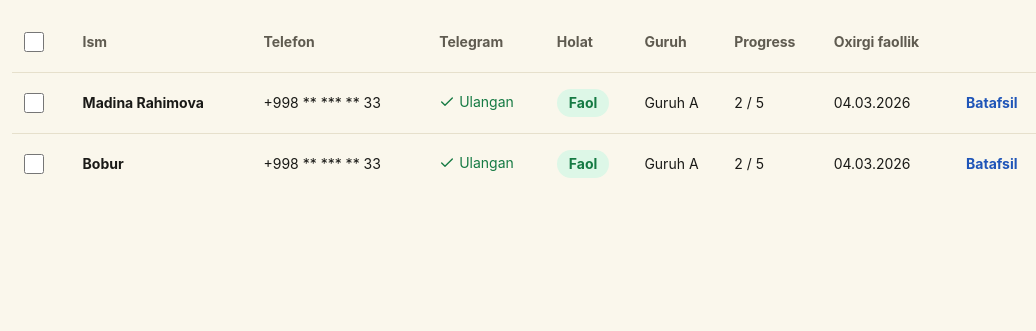
Scenario: StudentTable › bulk move: select rows, choose a group, submit the ids
Expected: the text "Tanlangan" is not shown
Click the checkbox named "Madina Rahimova tanlash" at point(34, 103), box [24,93,44,113]
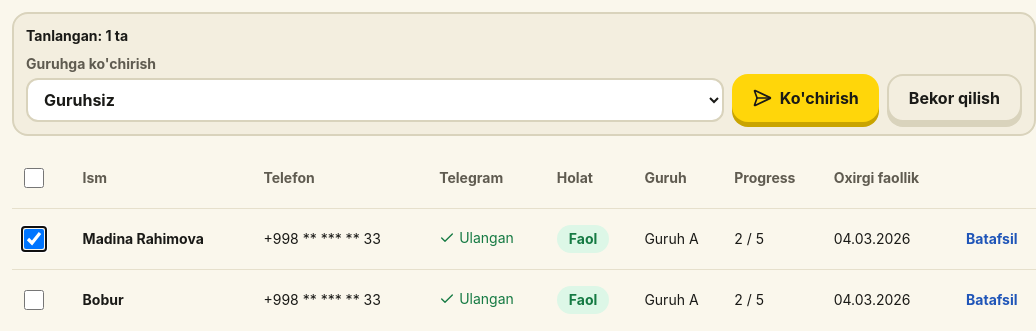
Click the checkbox named "Bobur tanlash" at point(34, 300), box [24,290,44,310]
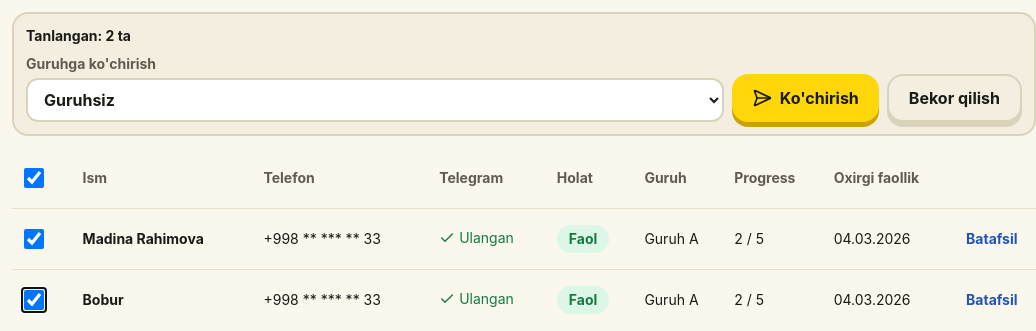
Now the text "Tanlangan: 2 ta" is shown, box [26,27,131,44]
Select "Guruh B" in the dropdown labelled "Guruhga ko'chirish" at point(375, 100), box [26,78,724,122]
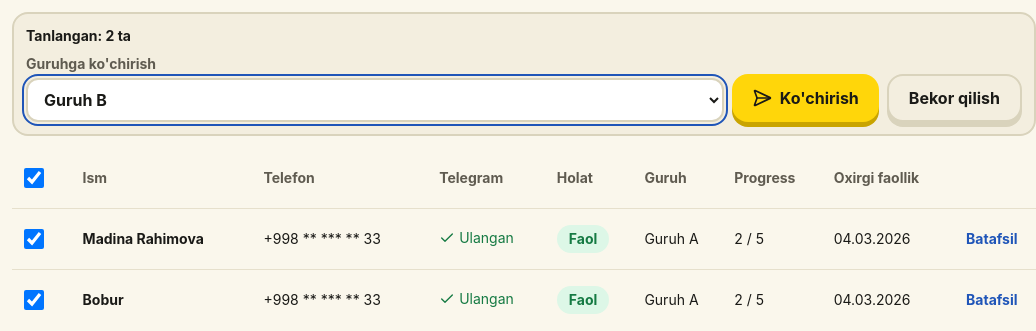
Click the button "Ko'chirish" at point(805, 98), box [732,74,879,122]
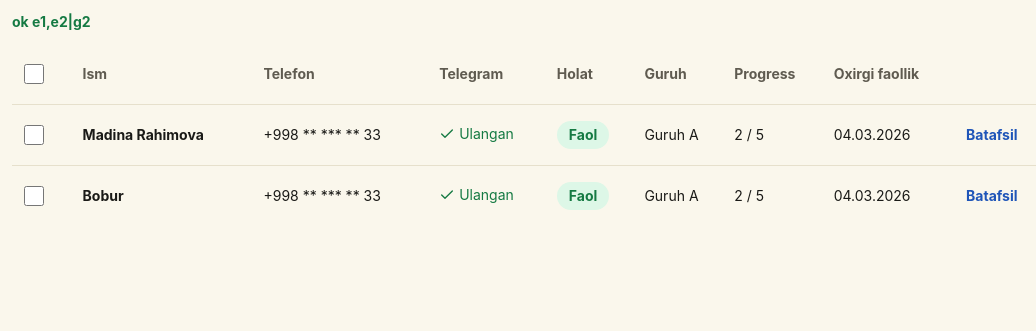
Now the text "Tanlangan" is gone
Now the text "ok e1,e2|g2" is shown, box [12,13,91,30]
